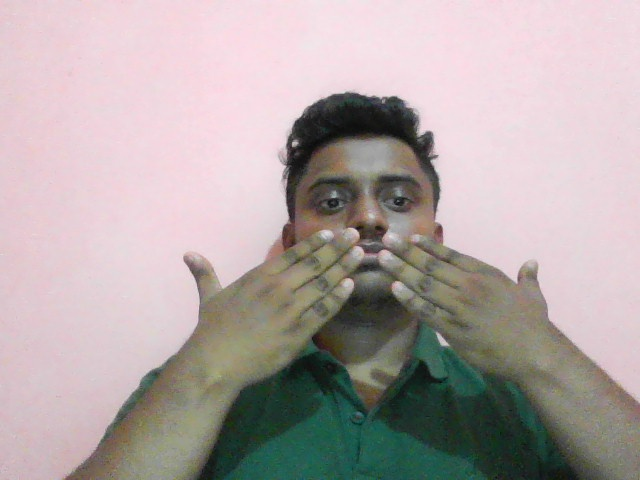Thank You: (117, 226, 594, 397)
